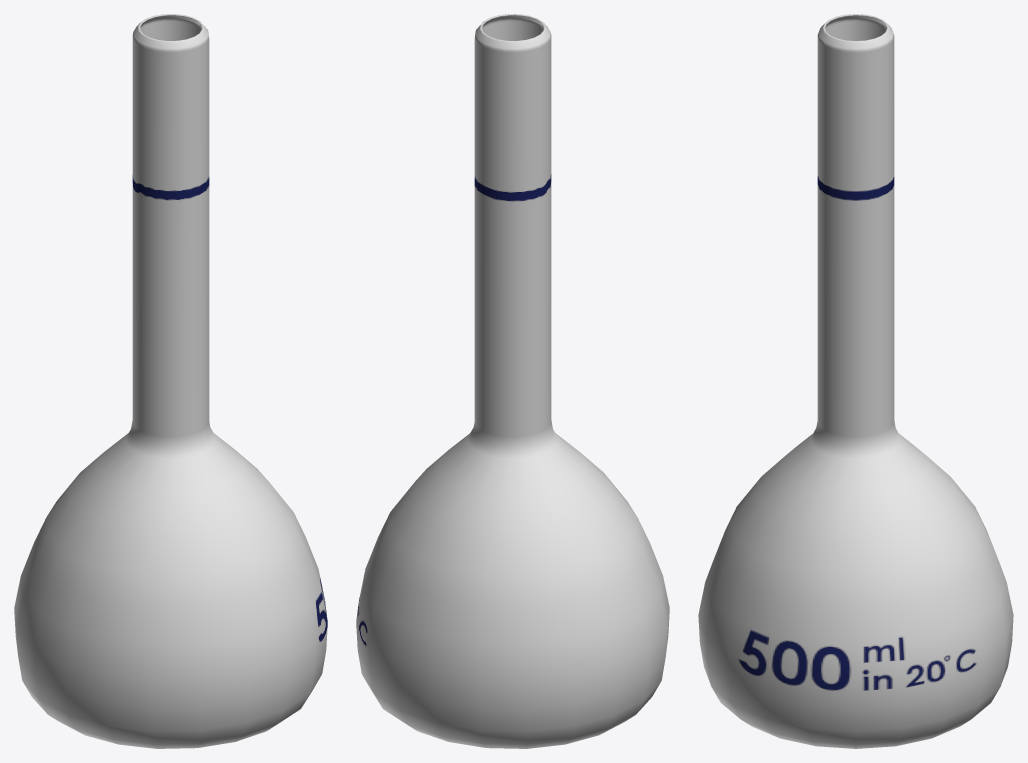
Rendered from volumetric_flask_500ml.glb.
The picture shows the model from 3 angles, left to right: view 1: azimuth 30°, elevation 25°; view 2: azimuth 150°, elevation 25°; view 3: azimuth 270°, elevation 25°; orthographic projection.
Visible parts, largest first — view 1: Vidro_500mL; view 2: Vidro_500mL; view 3: Vidro_500mL.
Part boxes in pixels (left/top/right/bottom): Vidro_500mL: left=14, top=14, right=327, bottom=748; Vidro_500mL: left=356, top=14, right=669, bottom=748; Vidro_500mL: left=698, top=14, right=1013, bottom=748.
Size of the model in its own units: 0.1509 by 0.3545 by 0.1509.
1 material, 1 textured.
